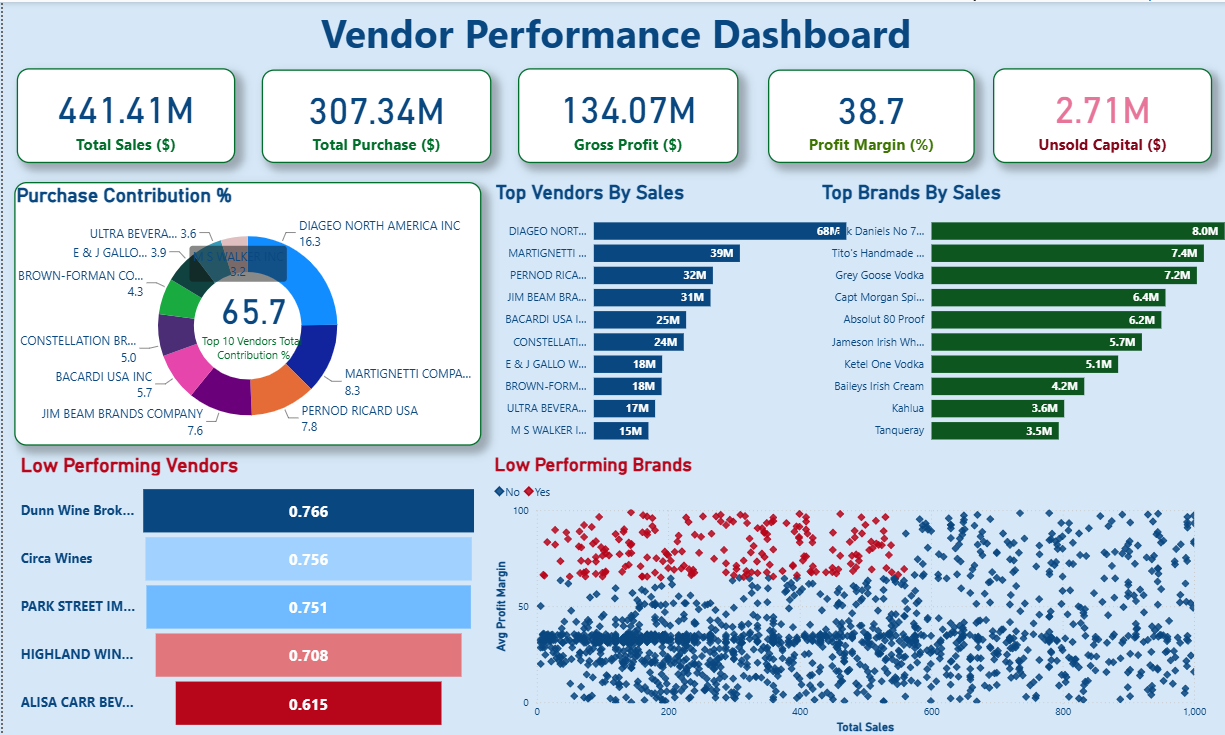

This screenshot's page, from the dashboard's own definition file:
{"tool":"powerbi","page":{"name":"Page 1","canvas":[1500,900],"ordinal":0},"visuals":[{"type":"card","fields":{"Values":["Sum(vendor_sales_summary.TotalPurchaseDollars)"]},"box":[315.8,82.4,280.9,114.6],"z":0},{"type":"card","fields":{"Values":["Sum(vendor_sales_summary.TotalSalesDollars)"]},"box":[16.8,81,266.9,116],"z":1000},{"type":"card","fields":{"Values":["Sum(vendor_sales_summary.GrossProfit)"]},"box":[630.2,81,269.7,116],"z":2000},{"type":"card","fields":{"Values":["Avg(vendor_sales_summary.ProfitMargin)"]},"box":[934.8,82.4,252.9,114.6],"z":3000},{"type":"card","fields":{"Values":["Sum(vendor_sales_summary.UnsoldCapital)"]},"box":[1210.1,81,268.3,116],"z":4000},{"type":"textbox","box":[0,0,1500,83],"z":5000},{"type":"donutChart","title":"Purchase Contribution % ","fields":{"Category":["PurchaseContribution.VendorName"],"Y":["Sum(PurchaseContribution.PurchaseContribution%)"]},"box":[14.5,219.4,571,322.6],"z":6000},{"type":"card","fields":{"Values":["Sum(PurchaseContribution.PurchaseContribution%)"]},"box":[211.8,266.7,188.2,233.3],"z":7000},{"type":"barChart","title":"Top Vendors By Sales","fields":{"Category":["vendor_sales_summary.VendorName"],"Y":["Sum(vendor_sales_summary.TotalSalesDollars)"]},"box":[597.3,219.2,447.9,332.9],"z":8000},{"type":"barChart","title":"Top Brands By Sales","fields":{"Category":["vendor_sales_summary.Description"],"Y":["Sum(vendor_sales_summary.TotalSalesDollars)"]},"box":[995.9,219.2,504.1,332.9],"z":9000},{"type":"funnel","title":"Low Performing Vendors","fields":{"Category":["LowTurnoverVendor.VendorName"],"Y":["Avg(LowTurnoverVendor.AvgStockTurnOver)"]},"box":[16.1,551.6,569.4,348.4],"z":10000},{"type":"scatterChart","title":"Low Performing Brands","fields":{"X":["Sum(BrandPerformance.TotalSales)"],"Y":["Sum(BrandPerformance.AvgProfitMargin)"],"Series":["BrandPerformance.TargetBrand"],"Category":["BrandPerformance.Description"]},"box":[596.8,551.6,880.6,348.4],"z":11000}]}

Visuals, with their boxes in screenshot pixels (x1, y1, x2, y2), scaled from the page's 1500x900 canvas onto the 1225x735 screenshot:
card - Sum(vendor_sales_summary.TotalPurchaseDollars): [left=258, top=67, right=487, bottom=161]
card - Sum(vendor_sales_summary.TotalSalesDollars): [left=14, top=66, right=232, bottom=161]
card - Sum(vendor_sales_summary.GrossProfit): [left=515, top=66, right=735, bottom=161]
card - Avg(vendor_sales_summary.ProfitMargin): [left=763, top=67, right=970, bottom=161]
card - Sum(vendor_sales_summary.UnsoldCapital): [left=988, top=66, right=1207, bottom=161]
textbox: [left=0, top=0, right=1224, bottom=68]
"Purchase Contribution % " donutChart: [left=12, top=179, right=478, bottom=443]
card - Sum(PurchaseContribution.PurchaseContribution%): [left=173, top=218, right=327, bottom=408]
"Top Vendors By Sales" barChart: [left=488, top=179, right=854, bottom=451]
"Top Brands By Sales" barChart: [left=813, top=179, right=1224, bottom=451]
"Low Performing Vendors" funnel: [left=13, top=450, right=478, bottom=734]
"Low Performing Brands" scatterChart: [left=487, top=450, right=1207, bottom=734]
